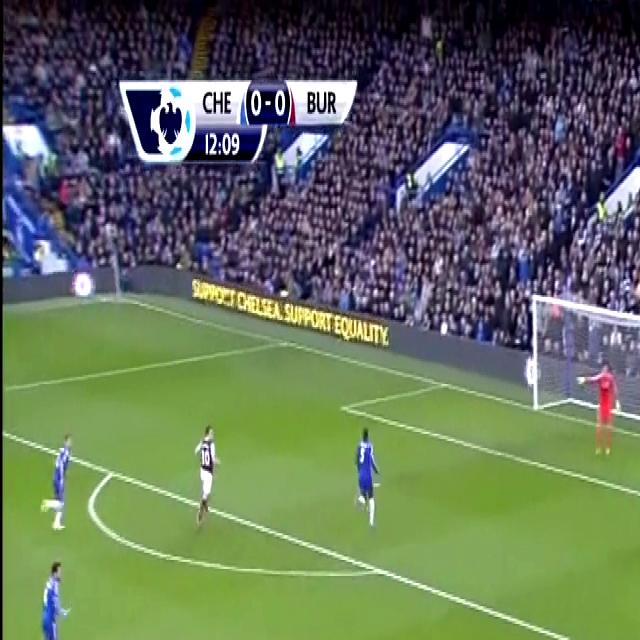goalkeeper: (574, 340, 630, 460)
soccer-player: (36, 427, 78, 533), (352, 413, 386, 529), (31, 556, 73, 640), (193, 417, 220, 527), (615, 620, 640, 640)
